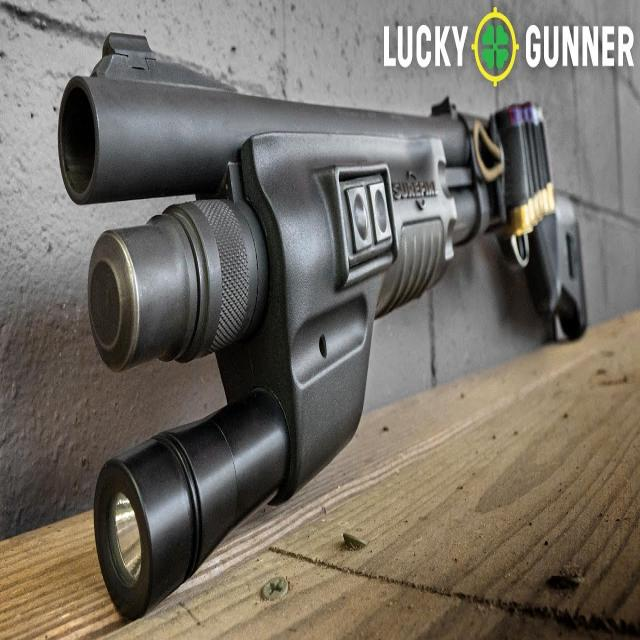ShotGun: (58, 34, 590, 623)
